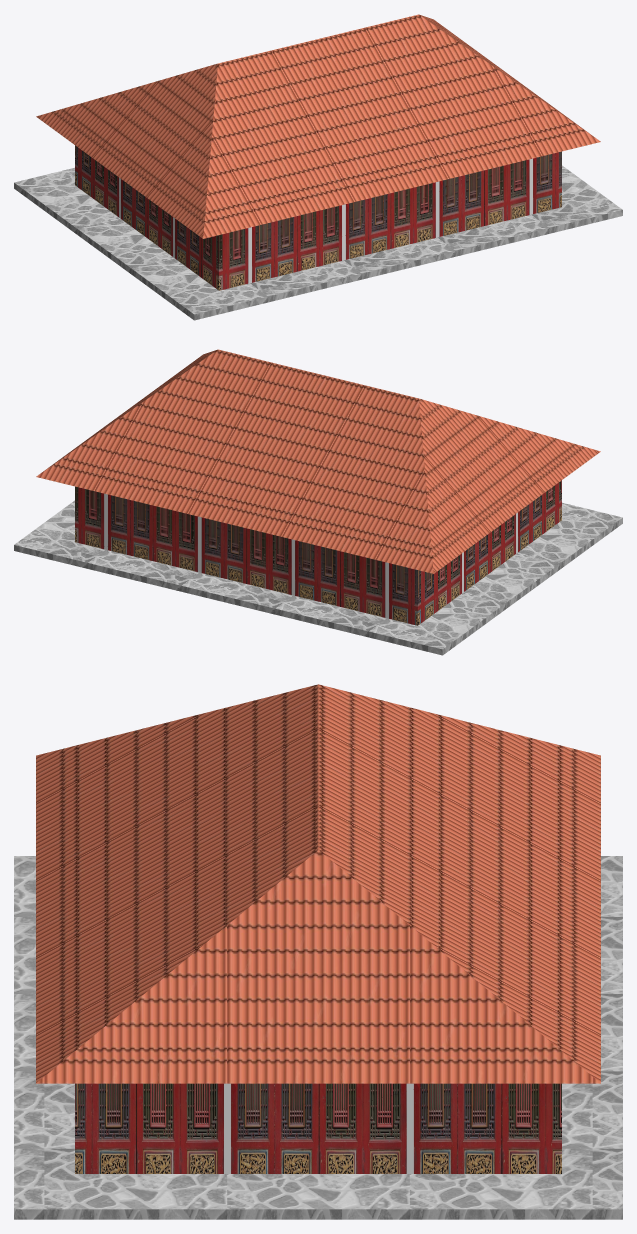
The model's file is Temple.fbx.
3 renders of one model, top to bottom at view 1: azimuth 30°, elevation 25°; view 2: azimuth 150°, elevation 25°; view 3: azimuth 270°, elevation 25°, orthographic. The views are drawn at different scales.
Visible parts, largest first — view 1: Box011, Box012, Taishe Leng; view 2: Box011, Box012, Taishe Leng; view 3: Box011, Taishe Leng, Box012.
Part boxes in pixels (x1,y1,x2,y2): Box011: [36, 14, 600, 238]; Box012: [75, 145, 561, 290]; Taishe Leng: [14, 165, 622, 320]; Box011: [36, 349, 600, 573]; Box012: [75, 480, 561, 625]; Taishe Leng: [14, 500, 622, 655]; Box011: [36, 684, 600, 1083]; Taishe Leng: [14, 856, 622, 1219]; Box012: [75, 1083, 561, 1173].
Bounding box in the file's own units: 36 × 13.1 × 26.22.
